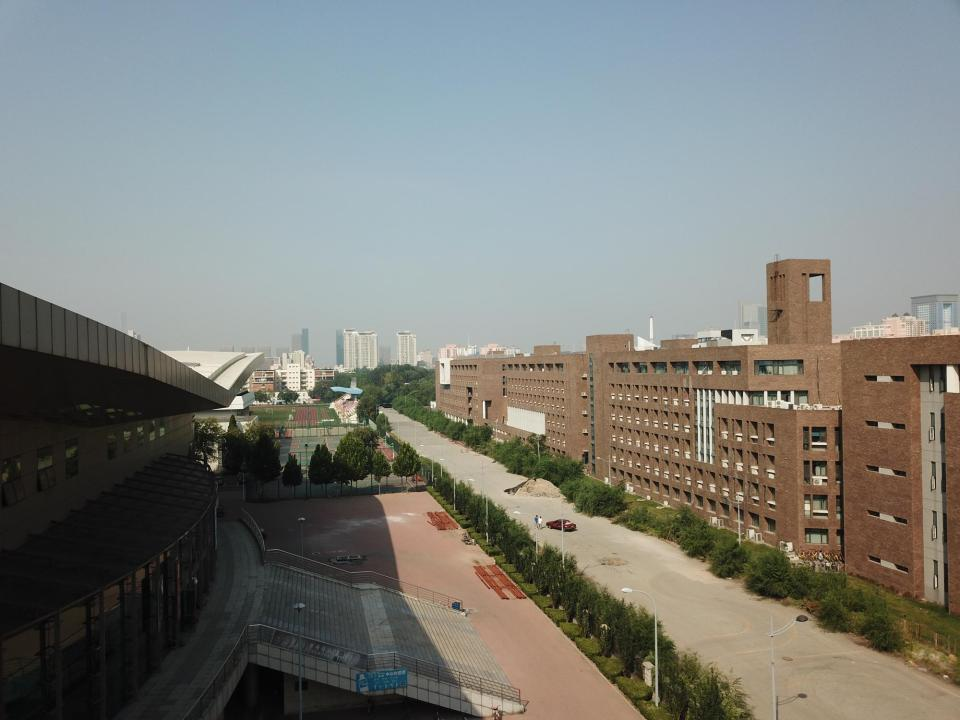car: (545, 518, 577, 532)
